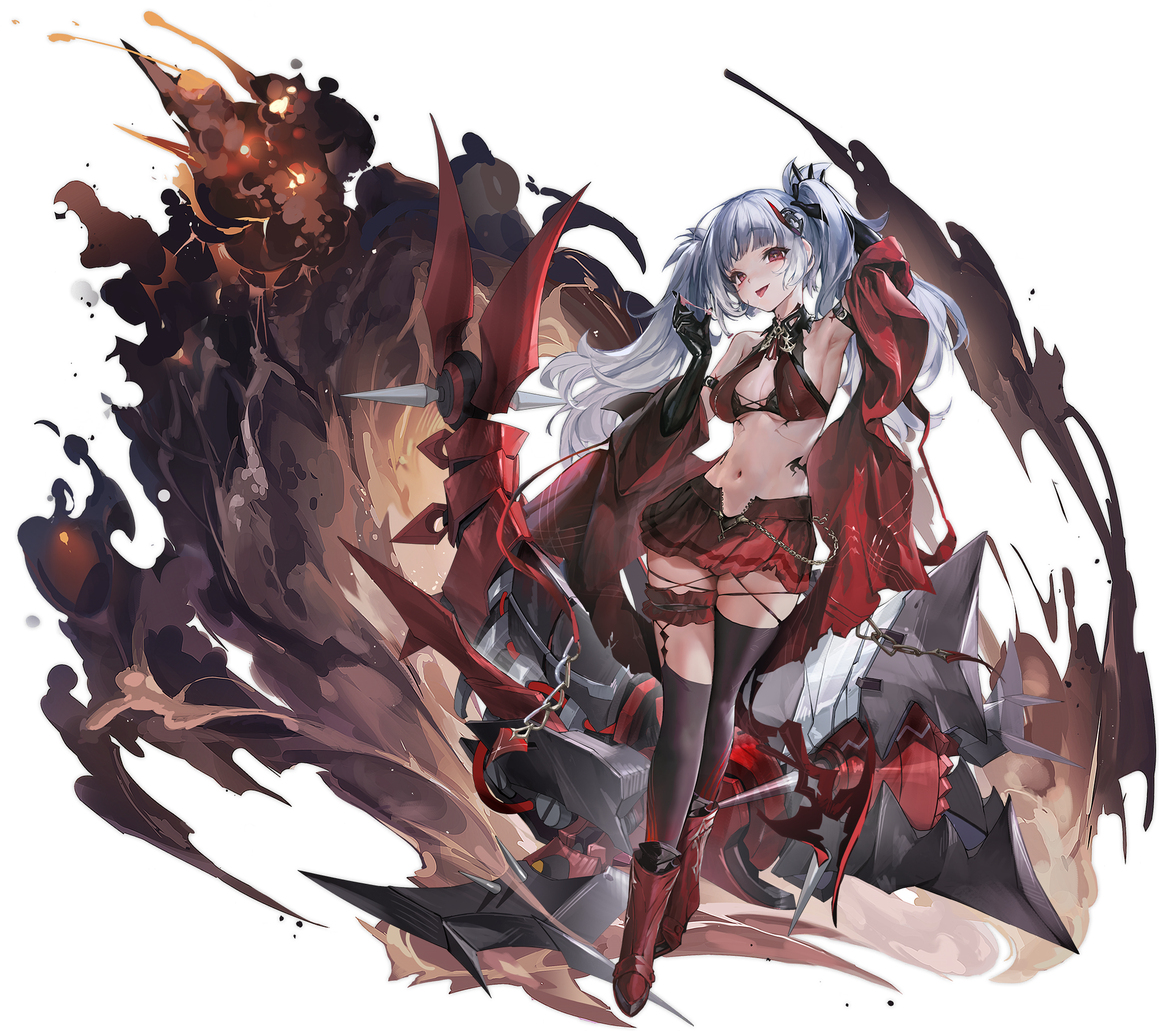person: (457, 135, 999, 1026)
